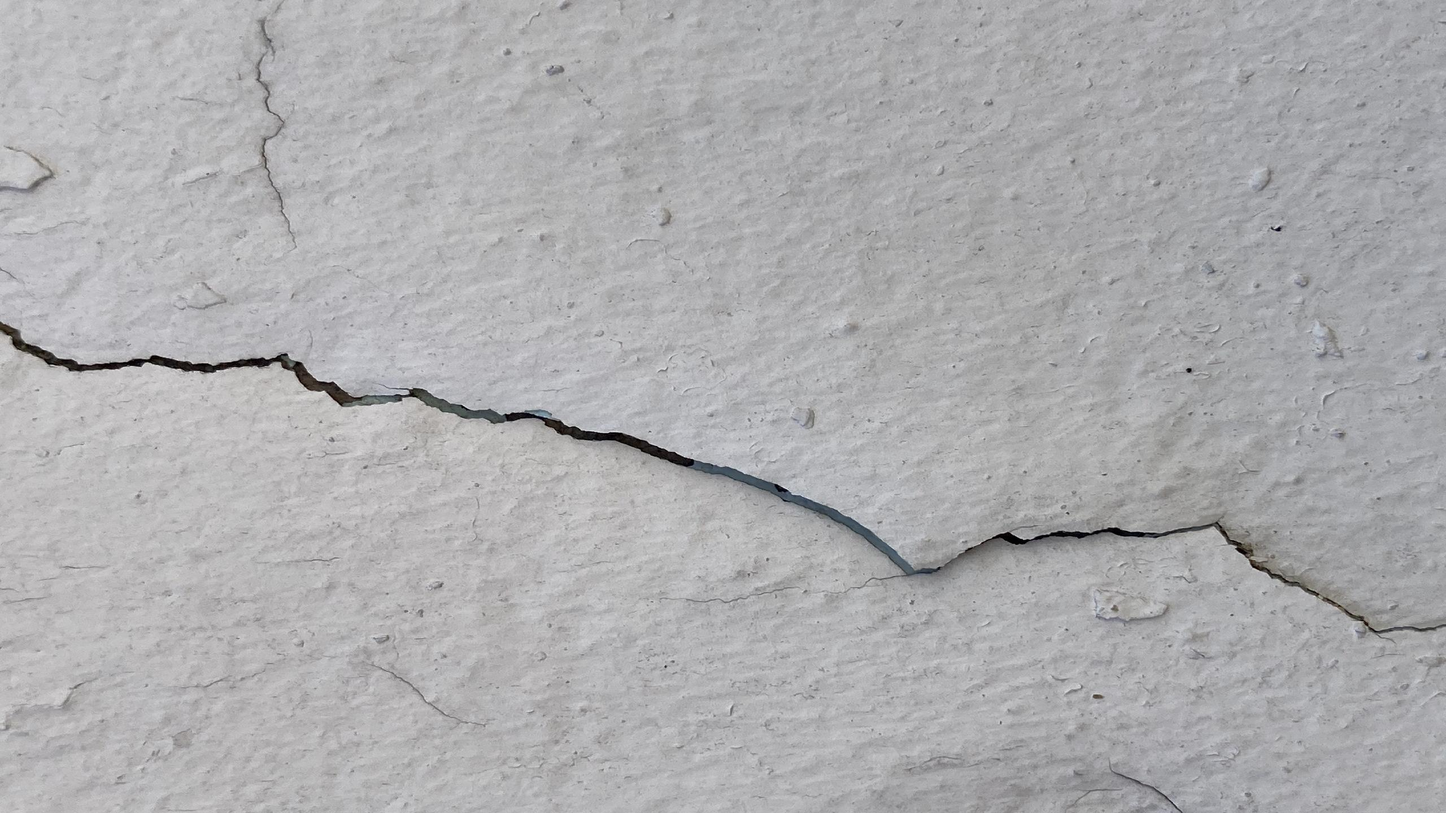crack: (1, 322, 1445, 634)
